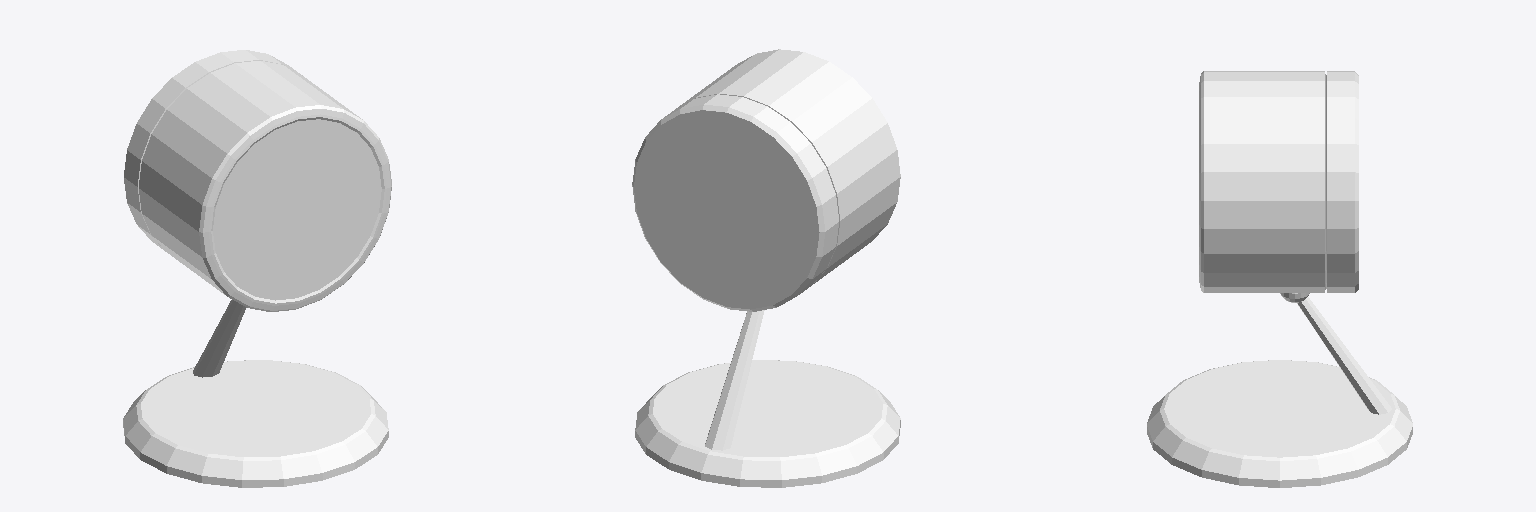
The picture shows the model from 3 angles: view 1: azimuth 30°, elevation 25°; view 2: azimuth 150°, elevation 25°; view 3: azimuth 270°, elevation 25°; orthographic projection.
Visible parts, largest first — view 1: aws_SecurityCamera_01_visualMesh; view 2: aws_SecurityCamera_01_visualMesh; view 3: aws_SecurityCamera_01_visualMesh.
Boxes of the visible parts, <box> form: aws_SecurityCamera_01_visualMesh: <box>123,50,391,487</box>; aws_SecurityCamera_01_visualMesh: <box>632,49,900,487</box>; aws_SecurityCamera_01_visualMesh: <box>1147,71,1412,487</box>.
Size of the model in its own units: 0.0998 by 0.1451 by 0.0998.